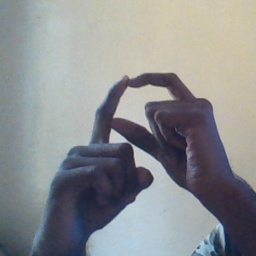D: (72, 64, 203, 183)
